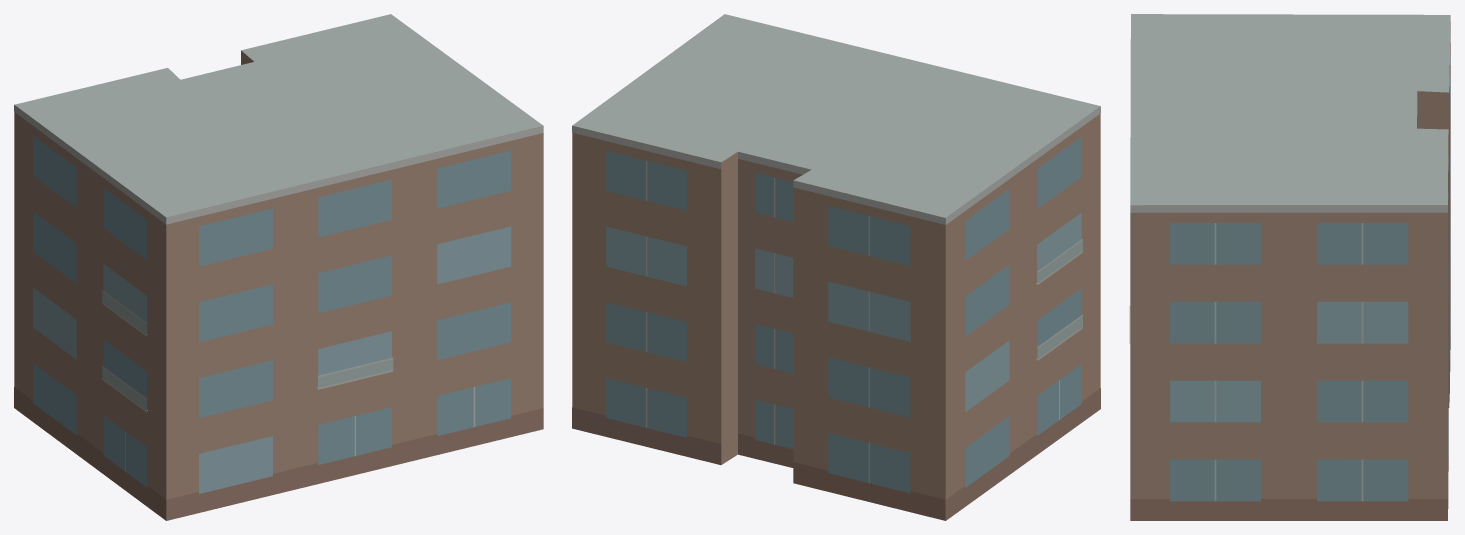
The model's file is survey-upis-32980875.glb.
3 views of the same model, side by side, from view 1: azimuth 30°, elevation 25°; view 2: azimuth 150°, elevation 25°; view 3: azimuth 270°, elevation 25° (orthographic). The views are drawn at different scales.
Parts seen in each view (by area): view 1: survey-upis-32980875.tmp; view 2: survey-upis-32980875.tmp; view 3: survey-upis-32980875.tmp.
Boxes of the visible parts, x1,y1,x2,y2 form: survey-upis-32980875.tmp: (14, 14, 543, 520); survey-upis-32980875.tmp: (572, 14, 1100, 520); survey-upis-32980875.tmp: (1129, 14, 1450, 520).
Size of the model in its own units: 13.7 by 10.5 by 9.7.
